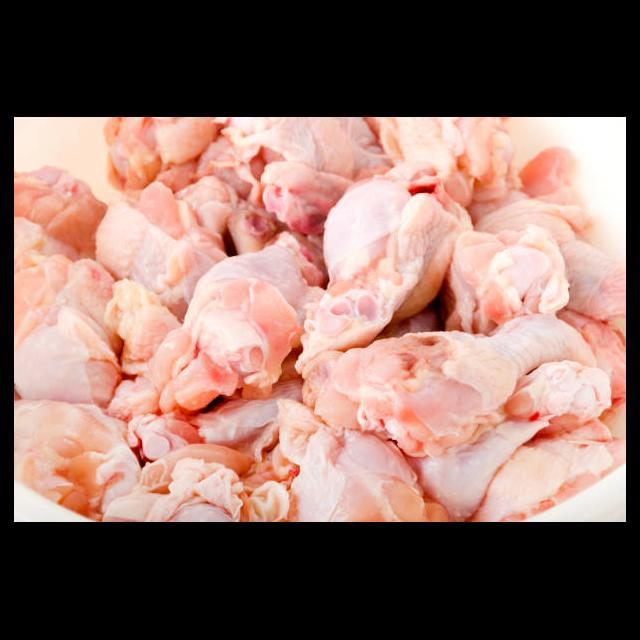chicken: (299, 312, 599, 466), (293, 158, 476, 378), (145, 232, 324, 414), (275, 400, 430, 522), (15, 257, 125, 398), (15, 396, 143, 516), (444, 225, 572, 338), (377, 118, 518, 210)
